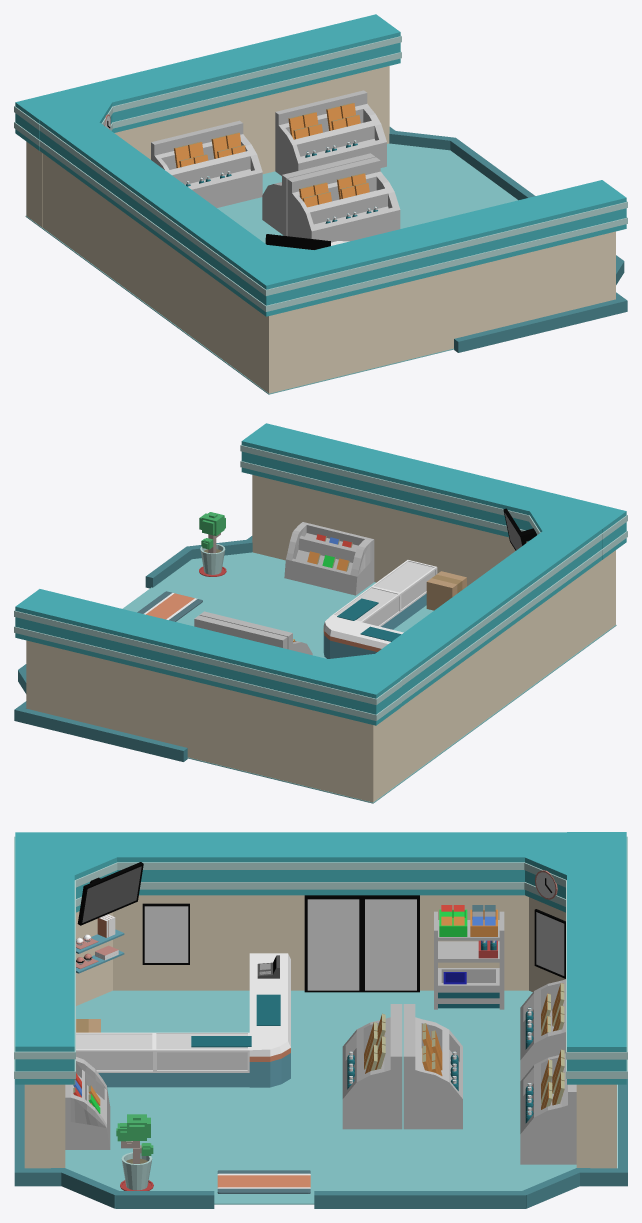
File: Formation1.fbx
3 views of the same model, one above another, from view 1: azimuth 30°, elevation 25°; view 2: azimuth 150°, elevation 25°; view 3: azimuth 270°, elevation 25° (orthographic). The views are drawn at different scales.
Parts seen in each view (by area): view 1: BotWall, TopWall, PresentoirDroit, Ground, PresentoirDroit.001, TopWallWhiteT, TopWallWhiteB, OuterWall, PresentoirDroit.002, TV; view 2: BotWall, TopWall, Ground, TopWallWhiteT, TopWallWhiteB, Bar, Presentoir, OuterWall, Plante, PresentoirDroit.002, Tapis, Carton (+2 smaller); view 3: Ground, TopWall, BotWall, Bar, OuterWall, Fridge, PresentoirDroit, TopWallWhiteT, Etagere, PresentoirDroit.001, PresentoirDroit.002, TopWallWhiteB (+8 smaller).
Boxes of the visible parts, box(x1,y1,x2,y2) form: BotWall: box(26, 66, 615, 393); TopWall: box(15, 14, 626, 316); PresentoirDroit: box(151, 90, 386, 207); Ground: box(25, 143, 517, 394); PresentoirDroit.001: box(287, 157, 400, 242); TopWallWhiteT: box(14, 36, 627, 295); TopWallWhiteB: box(14, 51, 627, 311); OuterWall: box(389, 127, 627, 352); PresentoirDroit.002: box(262, 153, 374, 235); TV: box(265, 234, 330, 249); BotWall: box(26, 475, 615, 802); TopWall: box(15, 423, 626, 725); Ground: box(122, 552, 616, 803); TopWallWhiteT: box(14, 444, 627, 705); TopWallWhiteB: box(14, 460, 627, 720); Bar: box(323, 560, 437, 658); Presentoir: box(284, 522, 374, 595); OuterWall: box(14, 536, 252, 761); Plante: box(199, 512, 226, 576); PresentoirDroit.002: box(194, 615, 287, 648); Tapis: box(137, 591, 202, 621); Carton: box(426, 571, 466, 610); Ground: box(65, 990, 617, 1204); TopWall: box(15, 832, 626, 1084); BotWall: box(24, 895, 616, 1168); Bar: box(76, 953, 290, 1087); OuterWall: box(14, 1079, 627, 1208); Fridge: box(304, 895, 419, 992); PresentoirDroit: box(520, 979, 576, 1164); TopWallWhiteT: box(14, 836, 627, 1059); Etagere: box(434, 909, 504, 1009); PresentoirDroit.001: box(342, 1004, 402, 1129); PresentoirDroit.002: box(403, 1004, 462, 1129); TopWallWhiteB: box(14, 882, 627, 1078).
Size of the model in its own units: 473 by 132 by 515.
